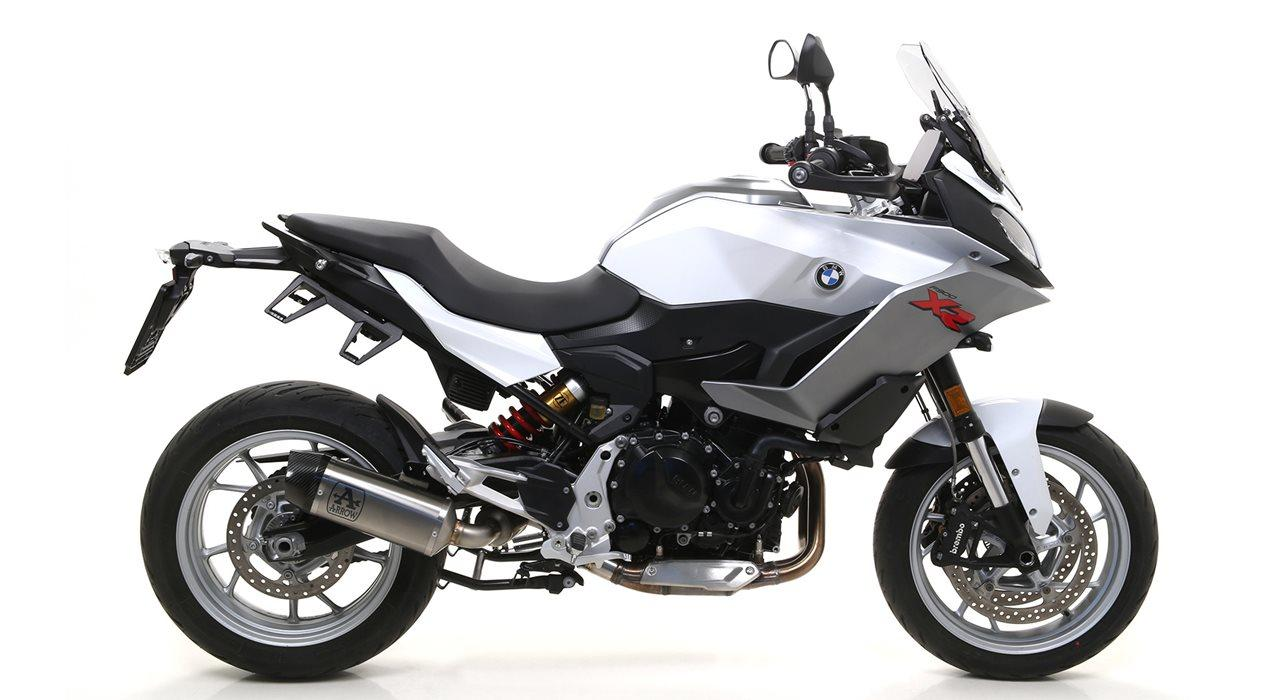engine-chasis: (541, 295, 879, 569), (437, 531, 585, 594), (487, 398, 566, 449), (530, 367, 593, 420)
exhaust: (576, 462, 825, 596), (285, 450, 529, 557), (790, 451, 812, 460)
frontside: (601, 41, 1094, 577)
handlebar: (759, 33, 948, 216)
motorbike: (126, 32, 1159, 679)
rearside: (123, 221, 613, 531)
seat: (285, 212, 640, 333)
tank: (600, 175, 812, 265)
wheel: (139, 380, 449, 680), (873, 423, 1160, 680), (921, 370, 961, 504), (914, 392, 932, 422), (268, 466, 287, 479), (350, 556, 371, 563), (375, 549, 389, 556), (320, 562, 328, 567)
